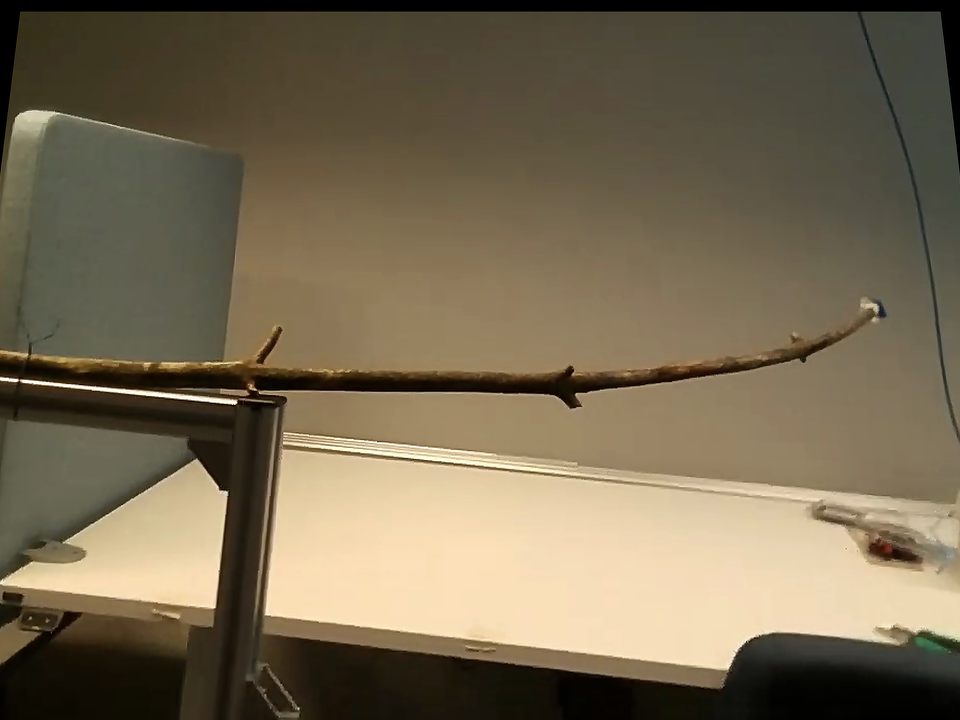branch: (305, 268, 889, 419)
